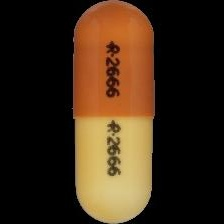0615-1378: (0, 0, 224, 224)
